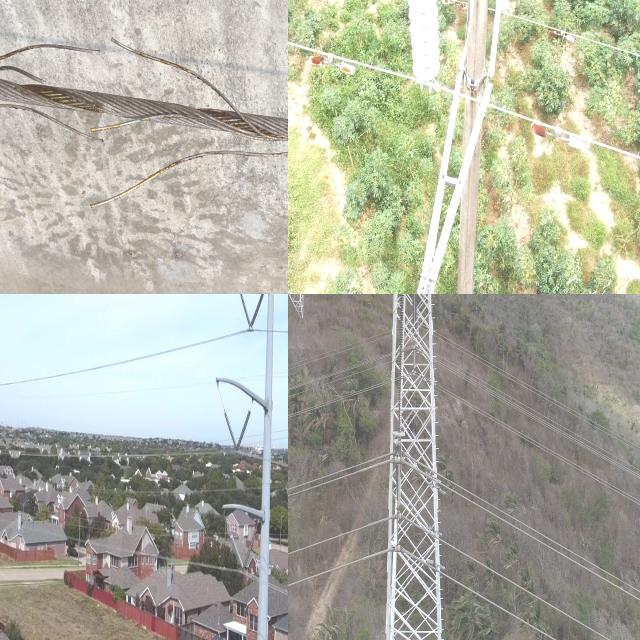杆塔: (384, 0, 527, 294), (384, 294, 444, 640)
正常电缆: (444, 486, 640, 604), (451, 478, 640, 594), (450, 540, 617, 640), (447, 572, 562, 640), (288, 548, 381, 597), (288, 516, 381, 563), (288, 460, 387, 501), (288, 453, 386, 491), (288, 383, 386, 419)
正常绝缘子: (402, 0, 448, 105), (230, 404, 254, 466), (219, 397, 242, 461), (225, 517, 247, 575), (235, 530, 258, 583), (244, 294, 268, 339), (235, 294, 255, 338), (495, 0, 513, 20)
电缆破损: (158, 8, 288, 149)
